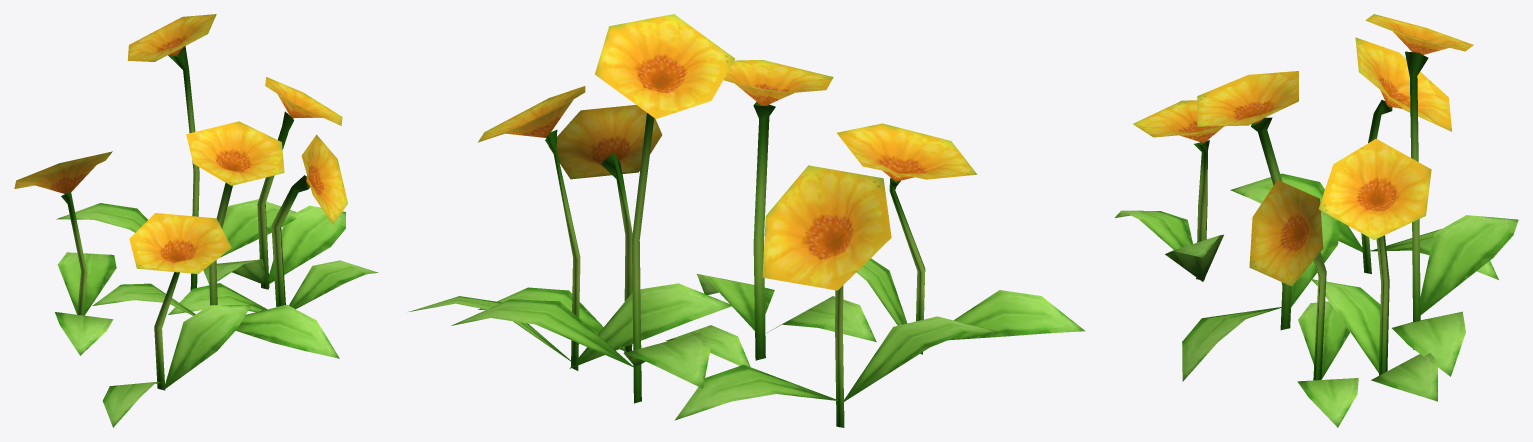
The model's file is EP1_flower1.fbx.
3 views of the same model, side by side, from view 1: azimuth 30°, elevation 25°; view 2: azimuth 150°, elevation 25°; view 3: azimuth 270°, elevation 25° (orthographic). The views are drawn at different scales.
Visible parts, largest first — view 1: group27; view 2: group27; view 3: group27.
Part boxes in pixels (bbox=[...]): group27: bbox=[14, 14, 378, 427]; group27: bbox=[409, 14, 1085, 427]; group27: bbox=[1115, 14, 1518, 427].
Size of the model in its own units: 0.5341 by 0.3915 by 0.4295.
